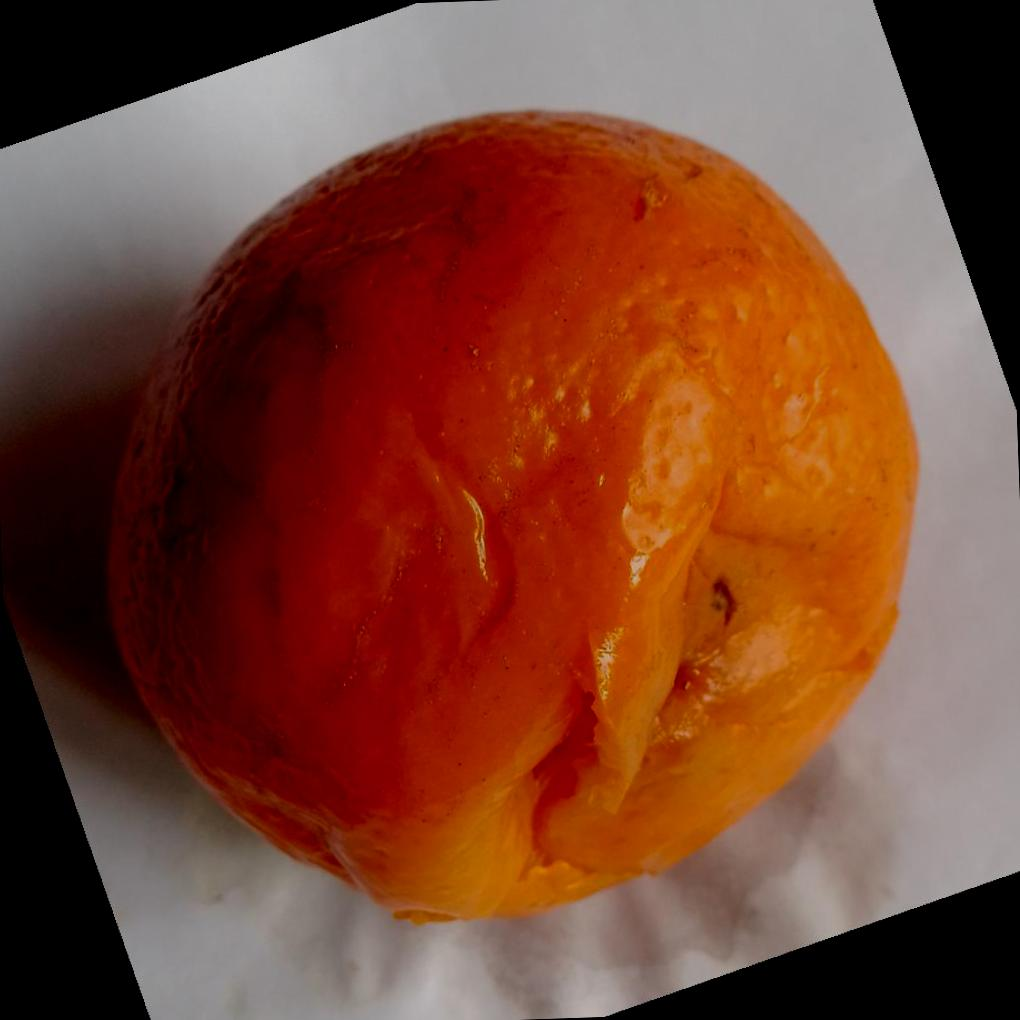FreshOrange: (103, 111, 920, 930)
